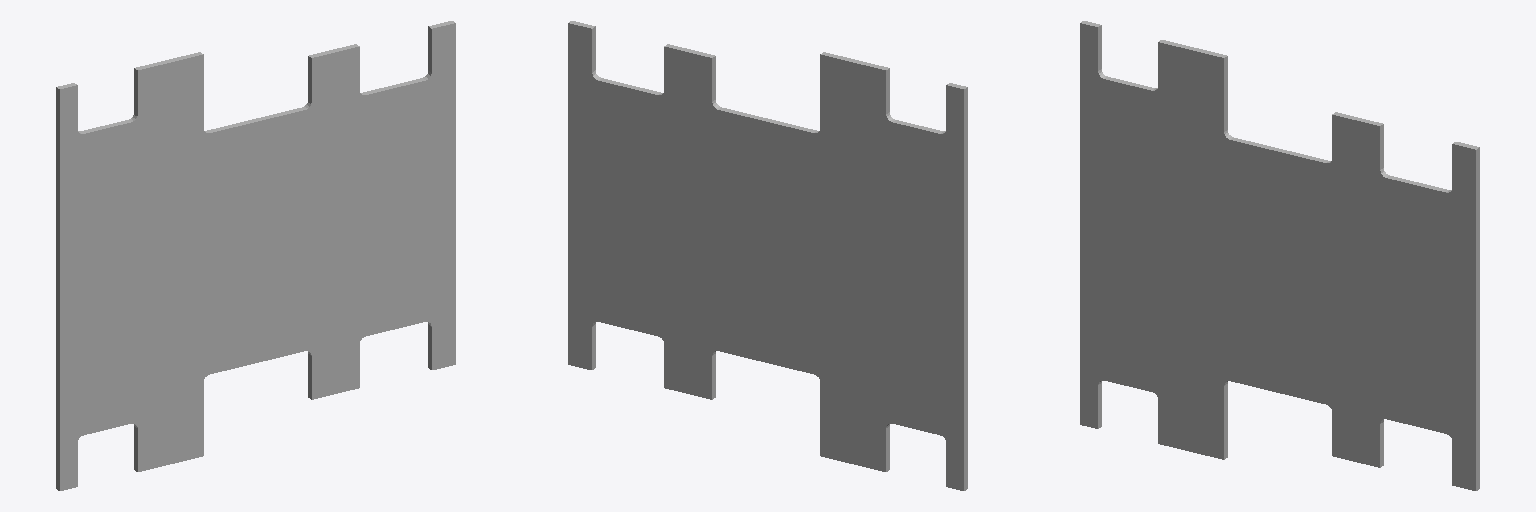
The robot description file, URDF, robot "myool_urdf":
<?xml version="1.0" encoding="utf-8"?>
<!-- This URDF was automatically created by SolidWorks to URDF Exporter! Originally created by [author] ([email redacted]) 
     Commit Version: 1.6.0-1-g15f4949  Build Version: 1.6.7594.29634
     For more information, please see http://wiki.ros.org/sw_urdf_exporter -->
<robot
  name="myool_urdf">
  <link
    name="myool_chassis">
    <inertial>
      <origin
        xyz="-0.0025949 1.6653E-16 0.003175"
        rpy="0 0 0" />
      <mass
        value="2.8701" />
      <inertia
        ixx="0.019918"
        ixy="5.8875E-18"
        ixz="-8.948E-19"
        iyy="0.042638"
        iyz="2.3451E-19"
        izz="0.061874" />
    </inertial>
    <visual>
      <origin
        xyz="0 0 0"
        rpy="0 0 0" />
      <geometry>
        <mesh
          filename="package://myool_urdf/meshes/myool_chassis.STL" />
      </geometry>
      <material
        name="">
        <color
          rgba="0.75294 0.75294 0.75294 1" />
      </material>
    </visual>
    <collision>
      <origin
        xyz="0 0 0"
        rpy="0 0 0" />
      <geometry>
		<cylinder radius="1" length="0.5"/>
      </geometry>
    </collision>
  </link>
</robot>

--- Render facts (derived) ---
The picture shows the robot from 3 angles, left to right: view 1: azimuth 30°, elevation 25°; view 2: azimuth 150°, elevation 25°; view 3: azimuth 330°, elevation 25°; orthographic projection.
Model myool_urdf with 1 links and 0 joints (none), rooted at myool_chassis, posed all joints at 0.
Links seen in each view (by area): view 1: myool_chassis; view 2: myool_chassis; view 3: myool_chassis.
Boxes of the visible links, left/top/right/bottom form: myool_chassis: left=56, top=21, right=455, bottom=490; myool_chassis: left=568, top=21, right=967, bottom=490; myool_chassis: left=1080, top=21, right=1479, bottom=490.
Bounding box of the posed robot: 0.4191 × 0.0064 × 0.4064 m (x, y, z).
1 mesh visuals loaded from 1 distinct referenced files (1 binary STL).